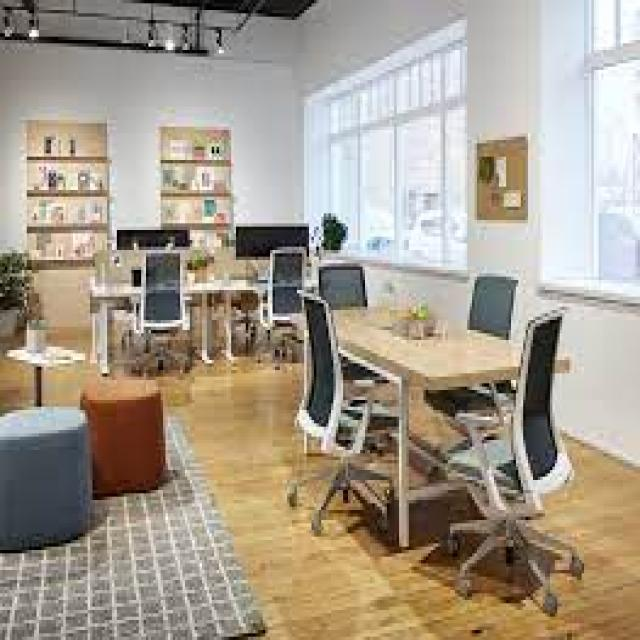chair: (408, 297, 618, 640), (258, 288, 392, 550), (423, 238, 517, 440), (100, 238, 206, 390), (220, 220, 316, 382), (303, 260, 377, 316)
